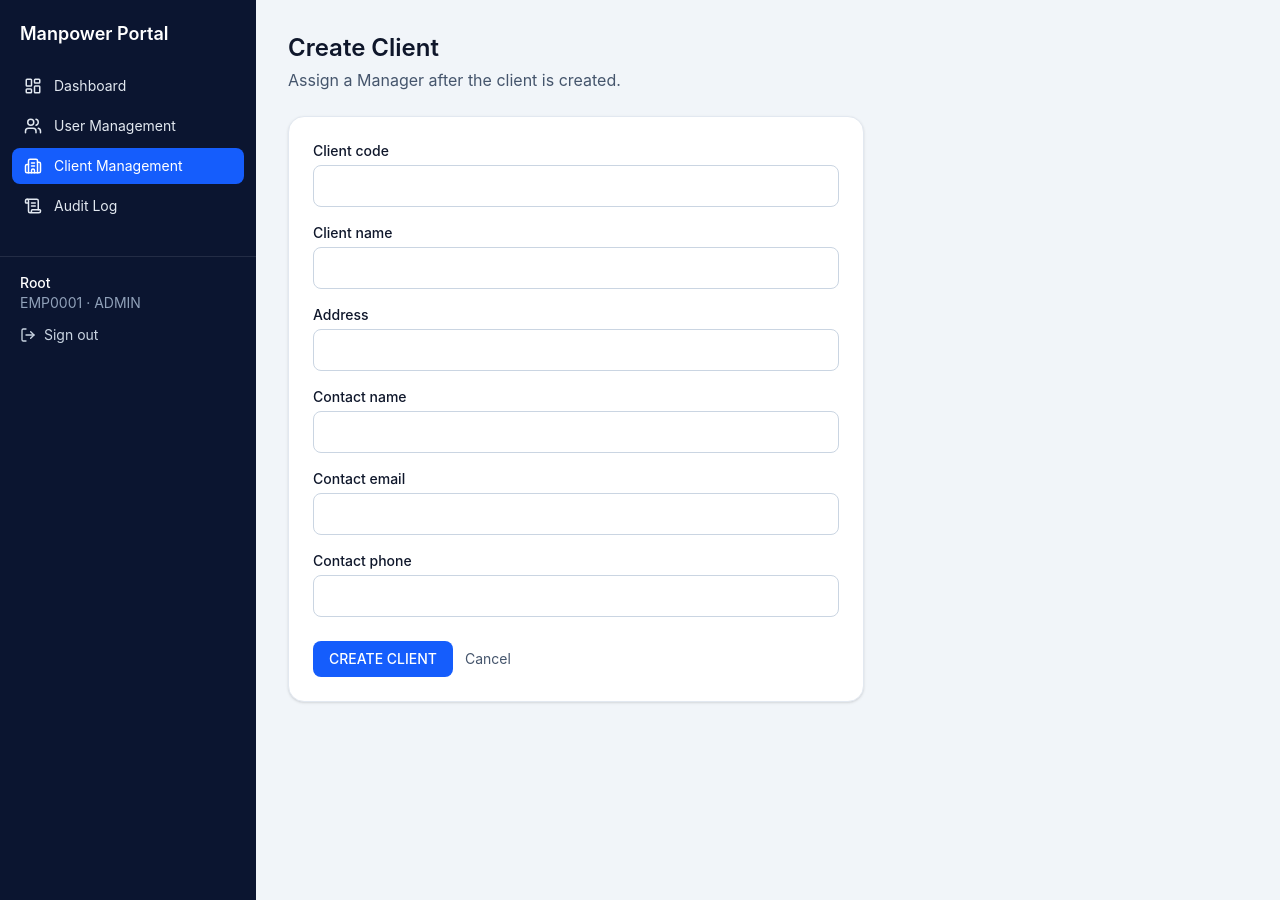
Test: duplicate client code shown beside the field; success opens the client
This screenshot has width=1280, height=900.
Type "ACME" into the field labelled "Client code" at point(576, 186), box x1=313 y1=165 x2=839 y2=207
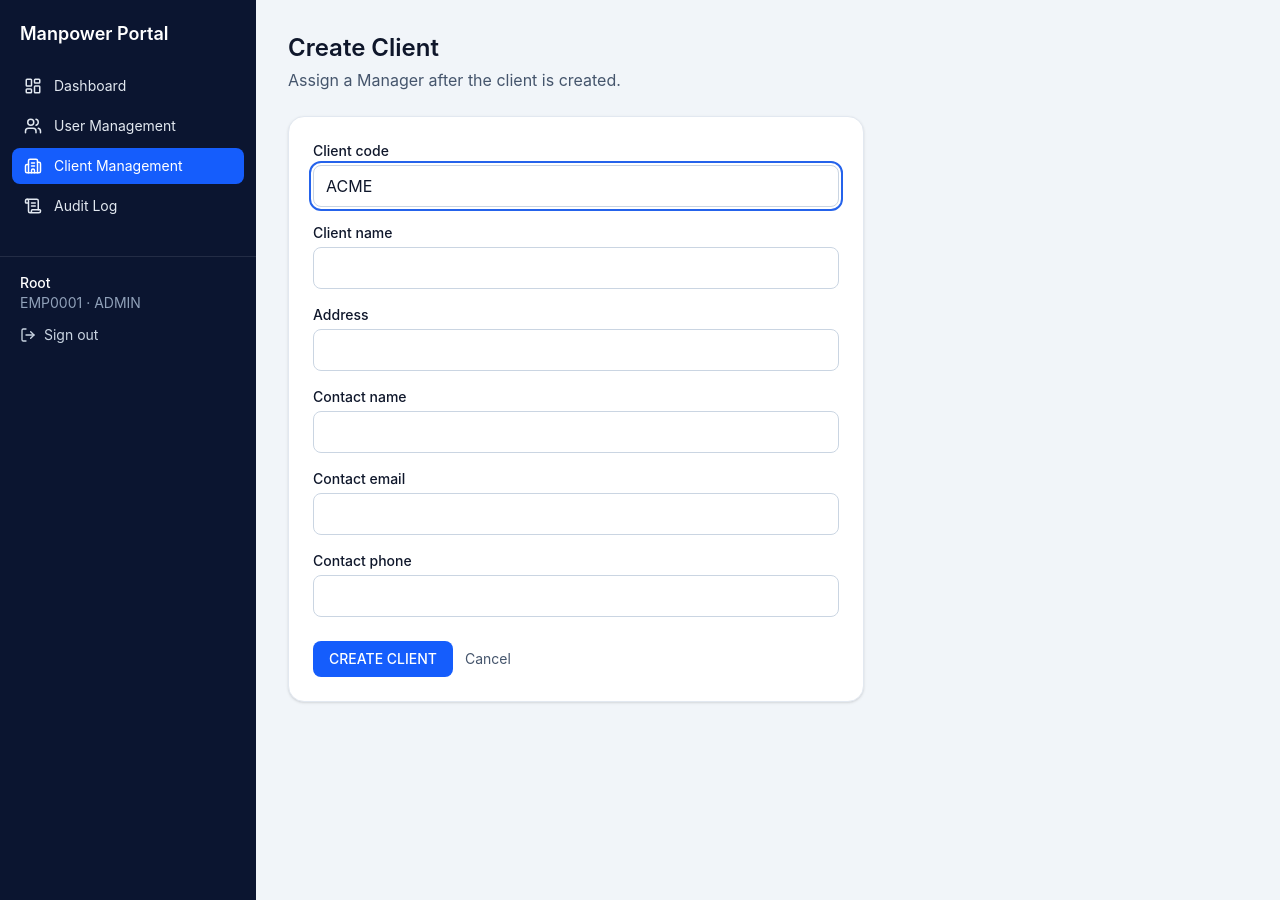
Type "Acme Ltd" into the field labelled "Client name" at point(576, 268), box x1=313 y1=247 x2=839 y2=289
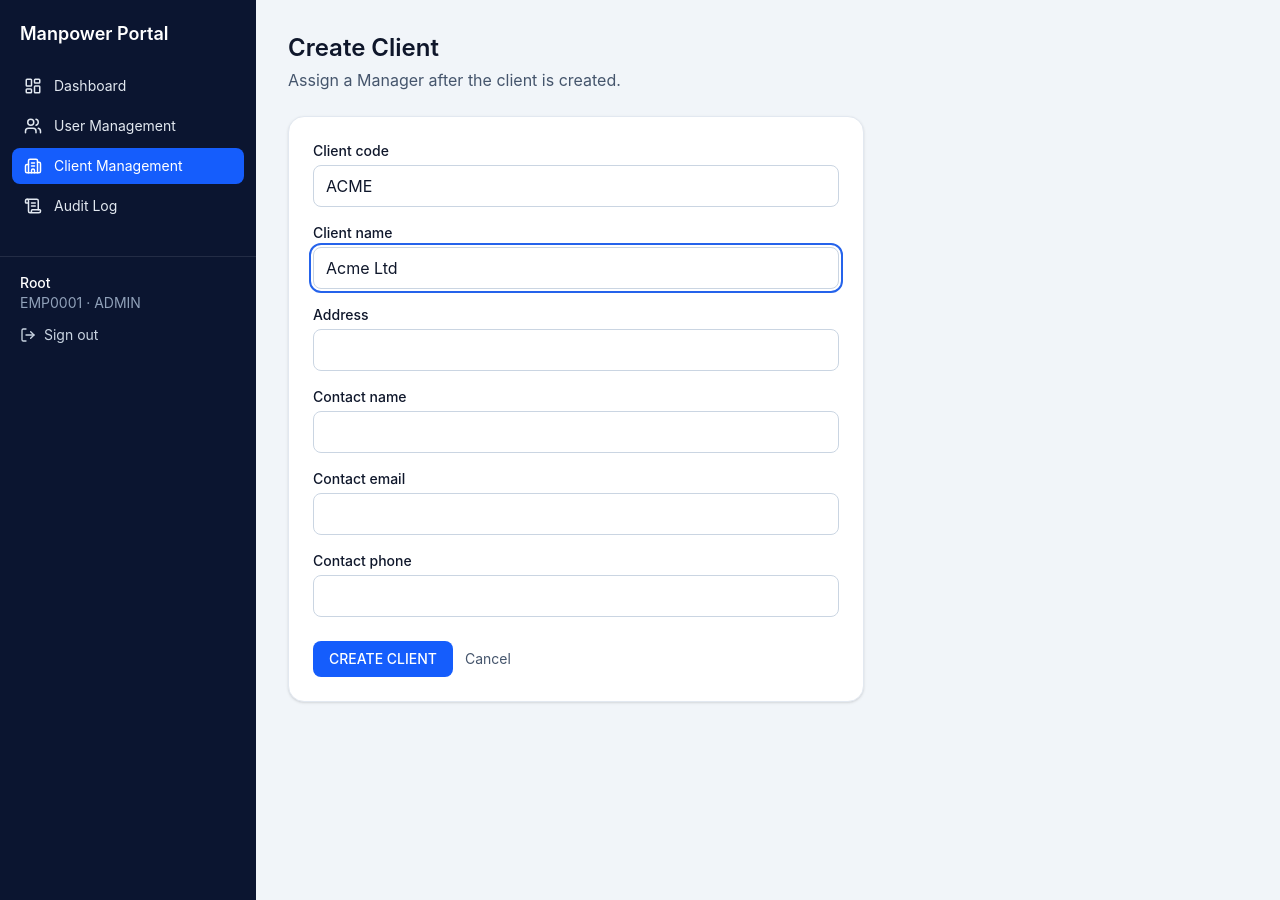
Click the button "CREATE CLIENT" at point(383, 659), box x1=313 y1=641 x2=453 y2=677
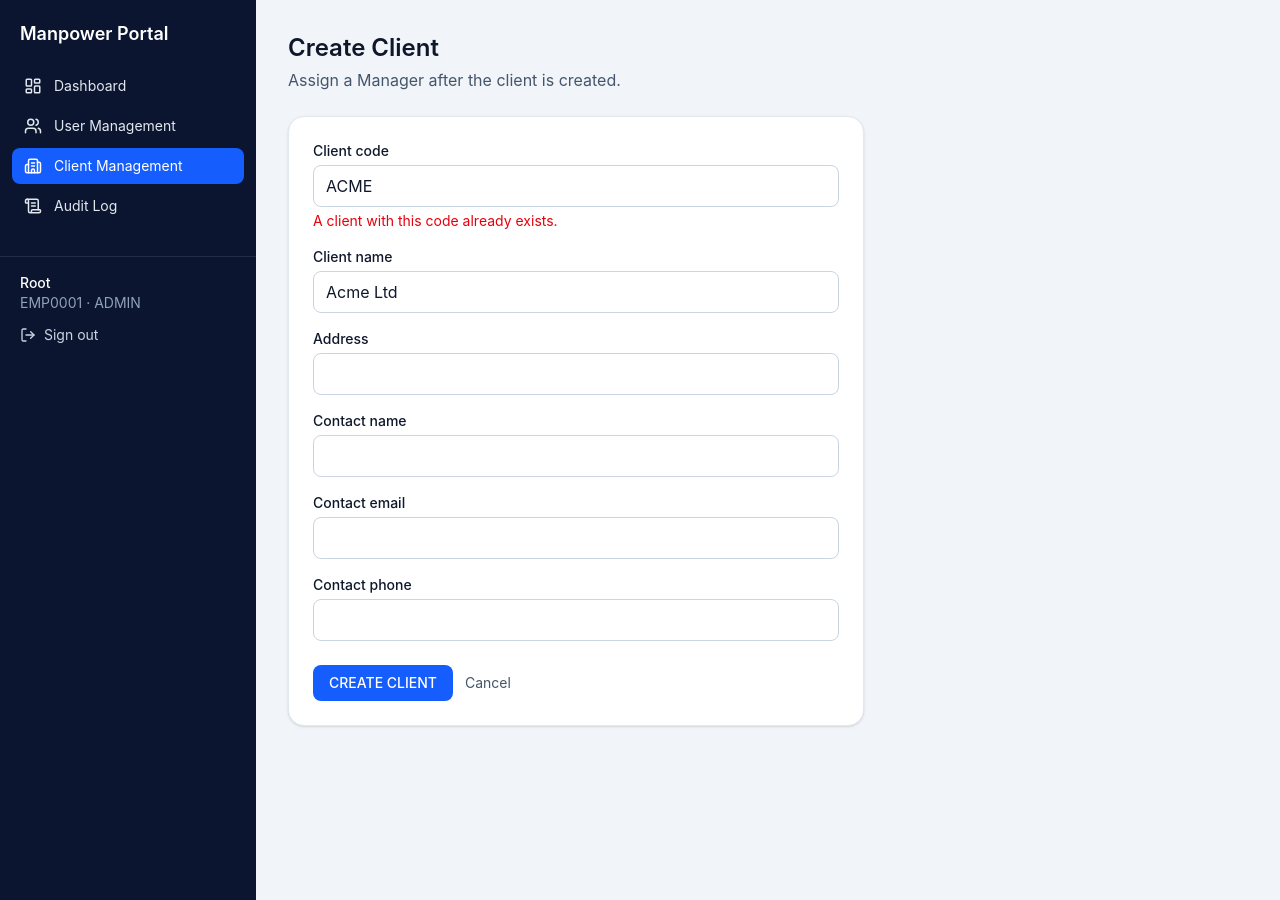
Check: the text "A client with this code already exists." is shown, box x1=313 y1=212 x2=558 y2=229
Click the button "CREATE CLIENT" at point(383, 683), box x1=313 y1=665 x2=453 y2=701
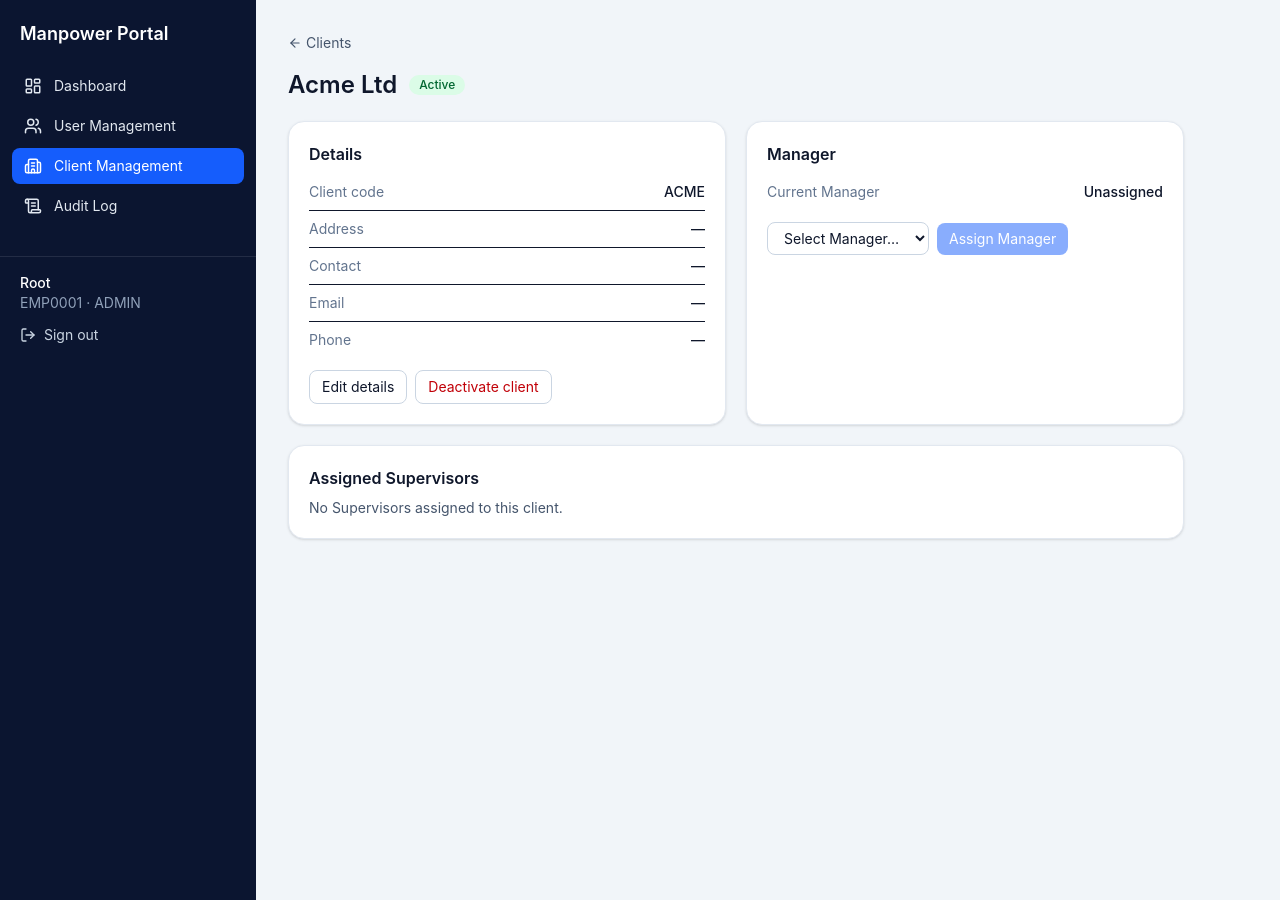
Check: the heading "Acme Ltd" is shown, box x1=288 y1=69 x2=397 y2=101
